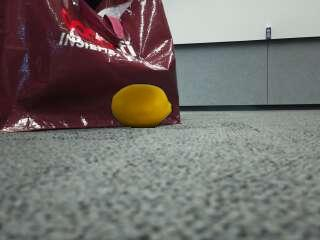lemon: (112, 84, 172, 127)
